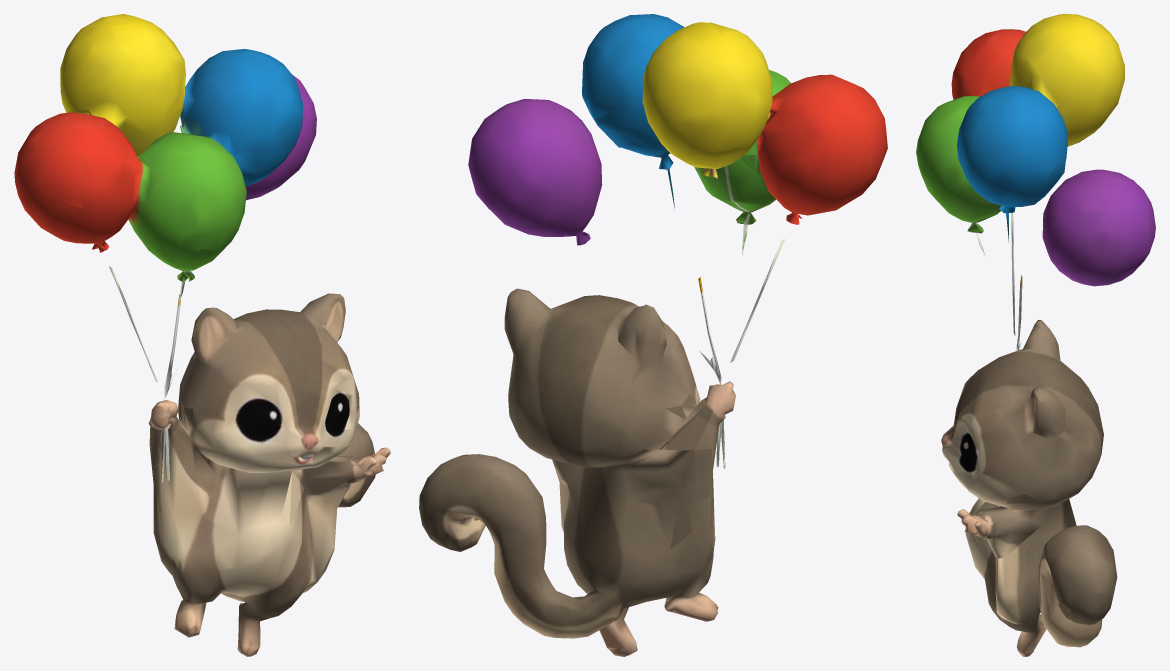
Rendered from sq-balloon-lowpoly4x-ani.glb.
The picture shows the model from 3 angles, left to right: view 1: azimuth 30°, elevation 25°; view 2: azimuth 150°, elevation 25°; view 3: azimuth 270°, elevation 25°; orthographic projection. The views are drawn at different scales.
Parts seen in each view (by area): view 1: Mesh_0; view 2: Mesh_0; view 3: Mesh_0.
Part boxes in pixels (x1,y1,x2,y2): Mesh_0: (14,14,390,656); Mesh_0: (419,14,887,656); Mesh_0: (916,14,1155,656).
Size of the model in its own units: 2.3 by 3.59 by 1.33.
1 material, 1 textured.
